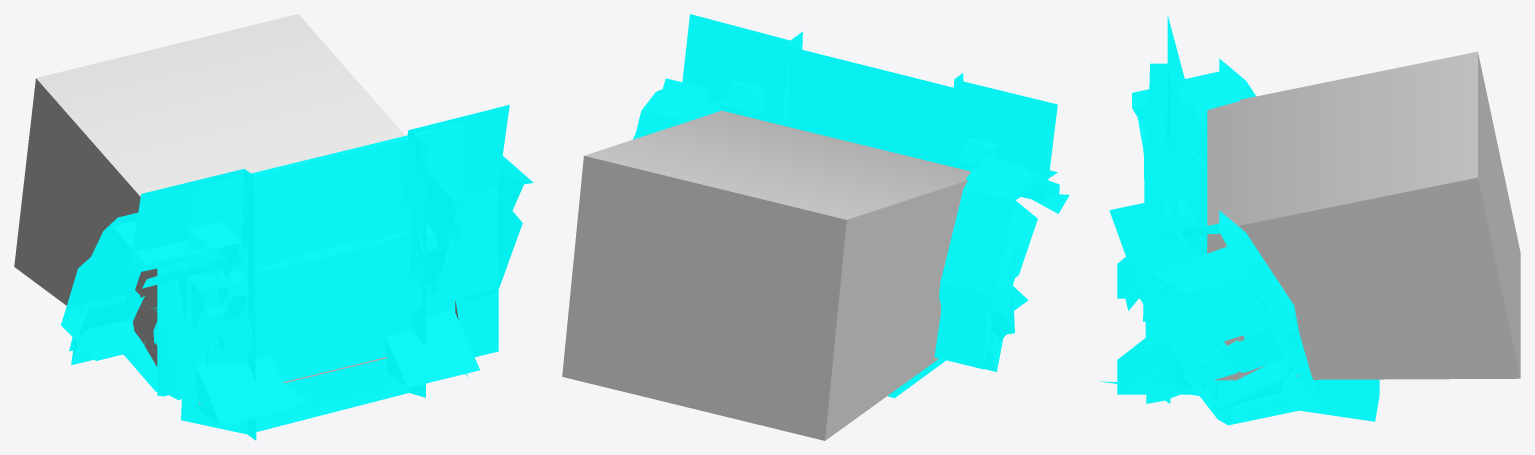
File: CockpitBox2.fbx
3 views of the same model, side by side, from view 1: azimuth 30°, elevation 25°; view 2: azimuth 150°, elevation 25°; view 3: azimuth 270°, elevation 25° (orthographic).
Visible parts, largest first — view 1: CockpitBox; view 2: CockpitBox; view 3: CockpitBox.
Part boxes in pixels (x1,y1,x2,y2): CockpitBox: (14, 14, 533, 440); CockpitBox: (562, 14, 1069, 440); CockpitBox: (1100, 15, 1520, 425).
Bounding box in the file's own units: 5.48 × 3.37 × 4.99.
